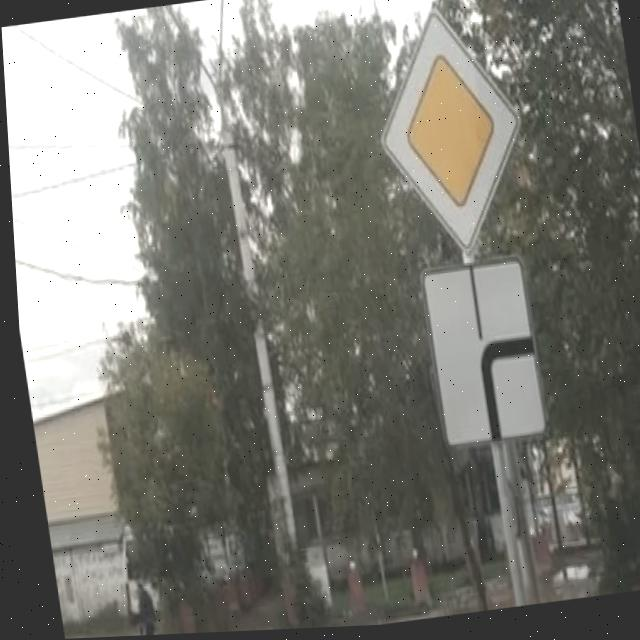signs: (361, 1, 535, 266)
